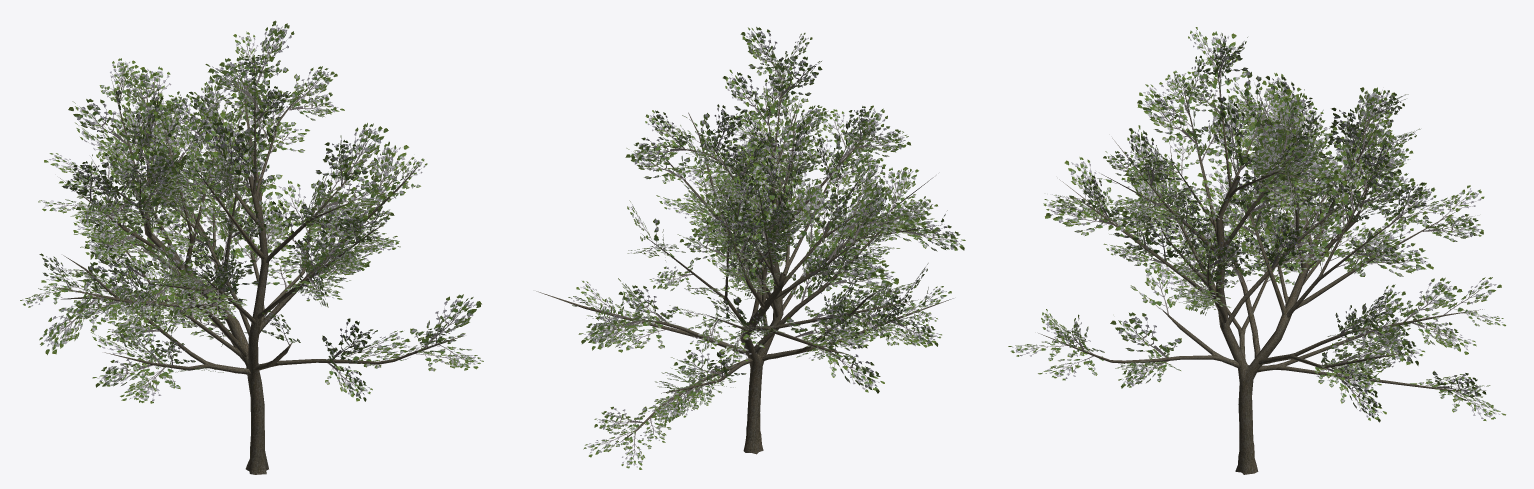
File: Tree_B_A.fbx
3 views of the same model, side by side, from view 1: azimuth 30°, elevation 25°; view 2: azimuth 150°, elevation 25°; view 3: azimuth 270°, elevation 25° (orthographic). The views are drawn at different scales.
Parts seen in each view (by area): view 1: Tree_B_A_LOD0; view 2: Tree_B_A_LOD0; view 3: Tree_B_A_LOD0.
Boxes of the visible parts, left/top/right/bottom form: Tree_B_A_LOD0: left=20, top=20, right=483, bottom=474; Tree_B_A_LOD0: left=536, top=27, right=965, bottom=469; Tree_B_A_LOD0: left=1008, top=27, right=1505, bottom=474.
Size of what is drawn, in the model's own units: 469 by 542 by 567.
